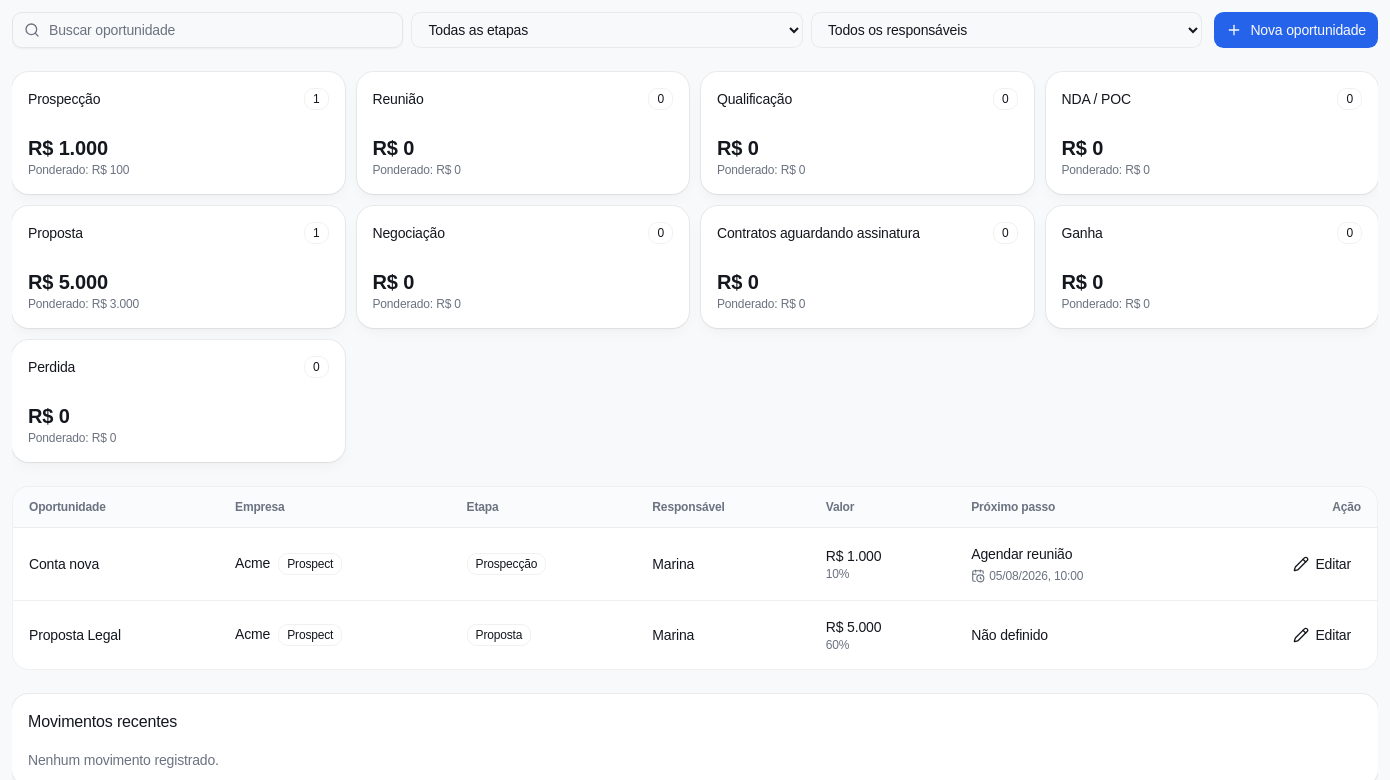
CommercialOpportunities › filtra a lista pela etapa selecionada
The width and height of the screenshot is (1390, 780).
Select "Proposta" in the dropdown named "Filtrar por etapa": {"x": 607, "y": 30} x1=412 y1=12 x2=803 y2=48
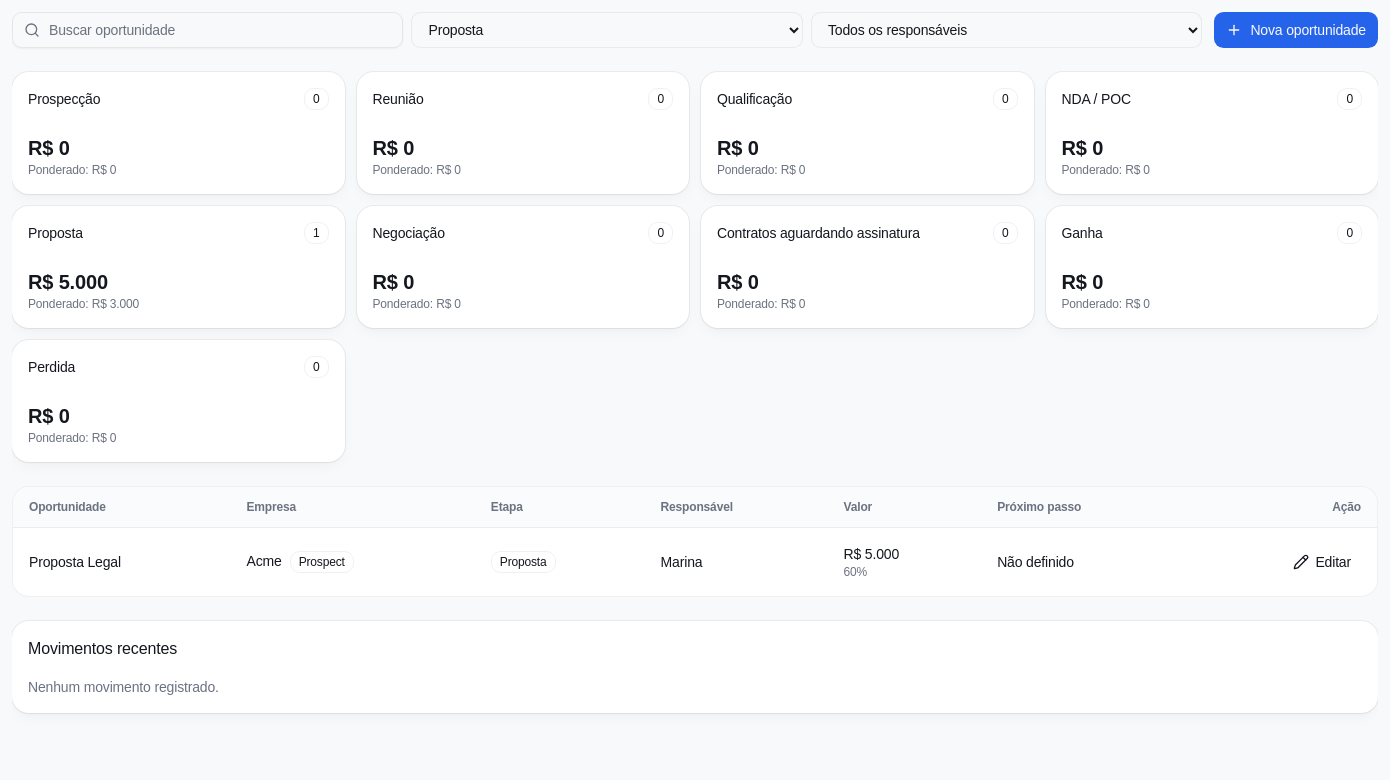
Expected: the text "Proposta Legal" is shown, x1=13 y1=528 x2=230 y2=596
Expected: the text "Conta nova" is gone
